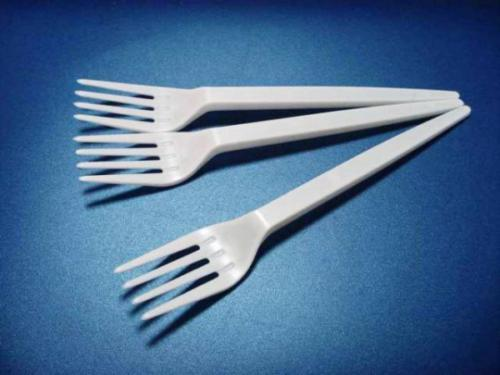Fork: (112, 104, 472, 322), (72, 97, 465, 188), (73, 78, 461, 133)
